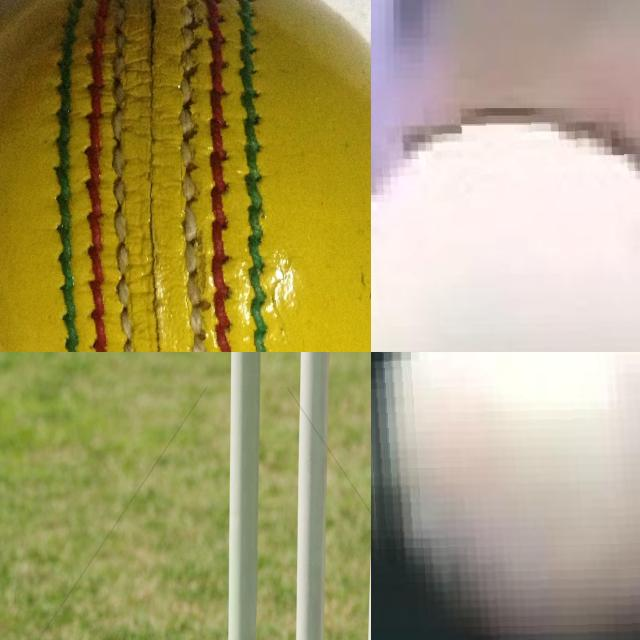Cricket ball: (0, 0, 371, 352), (371, 352, 640, 640), (371, 108, 640, 352)
Stumps: (229, 352, 371, 640)
